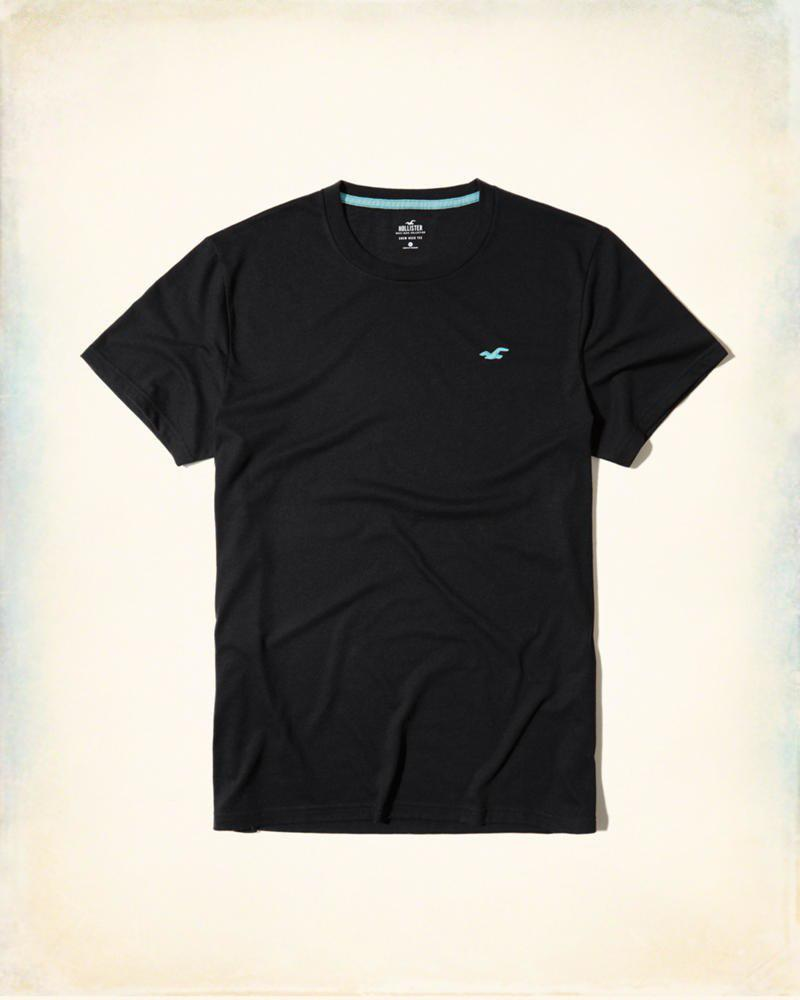teeshirt: (71, 168, 742, 859)
